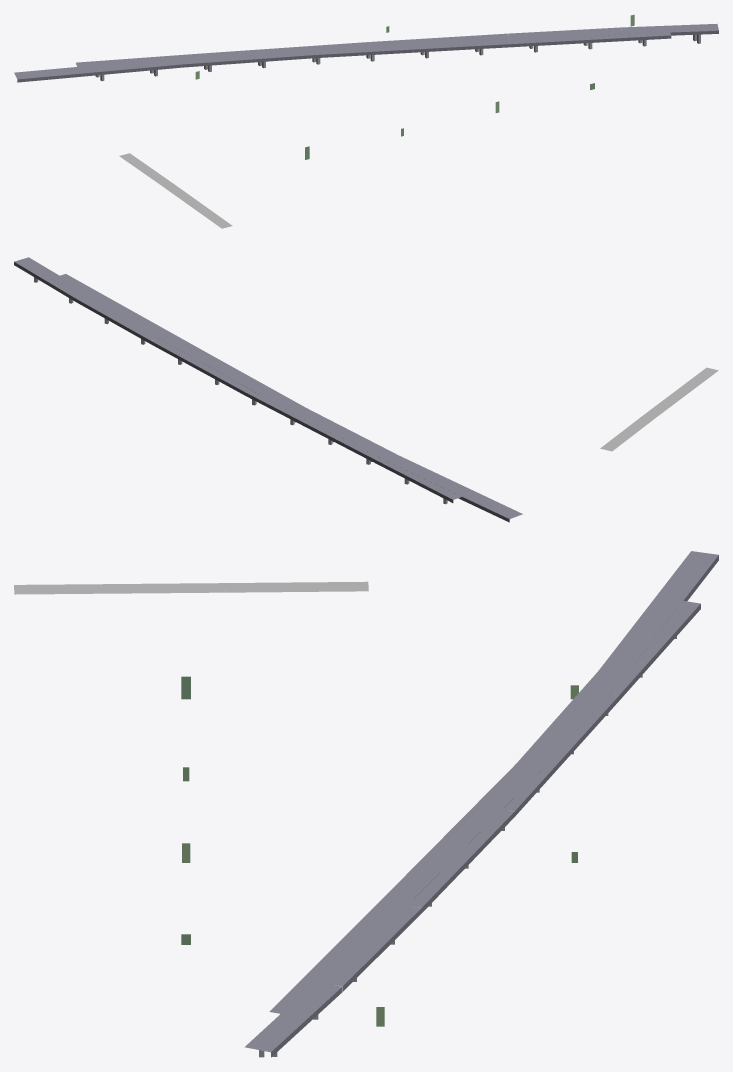
3 views of the same model, one above another, from view 1: azimuth 30°, elevation 25°; view 2: azimuth 150°, elevation 25°; view 3: azimuth 270°, elevation 25° (orthographic). The views are drawn at different scales.
Bounding box in the file's own units: 367 × 8.25 × 218.
